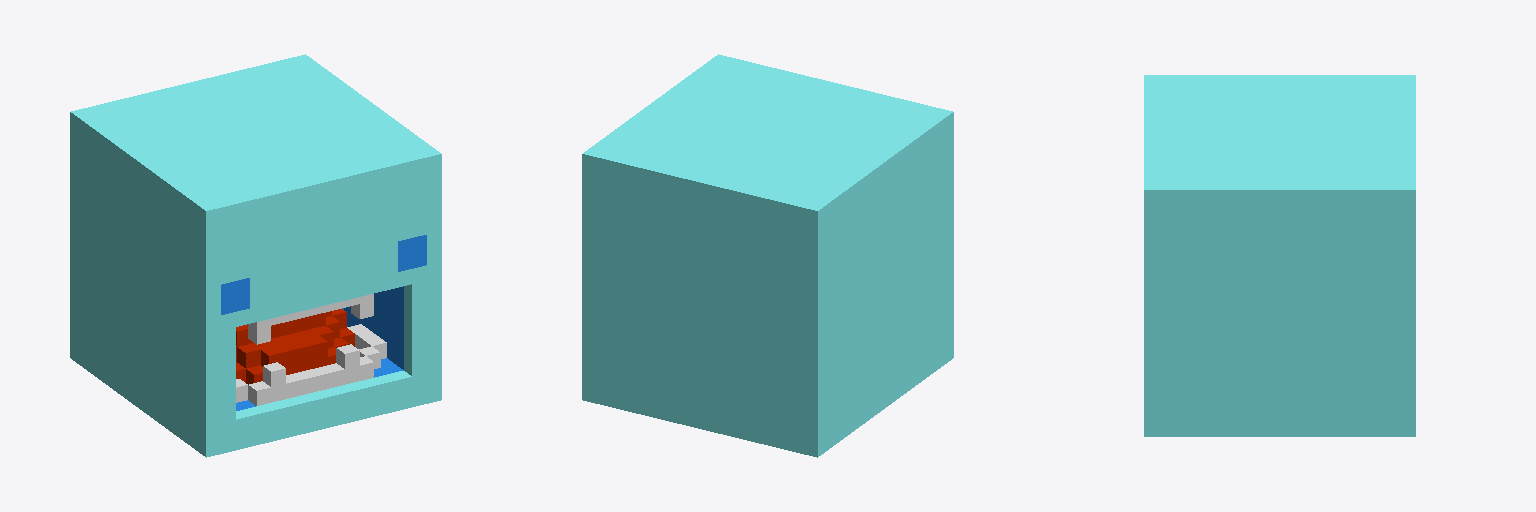
3 renders of one model, left to right at view 1: azimuth 30°, elevation 25°; view 2: azimuth 150°, elevation 25°; view 3: azimuth 270°, elevation 25°, orthographic.
Bounding box in the file's own units: 16 × 16 × 16.
1 materials, 1 textured.